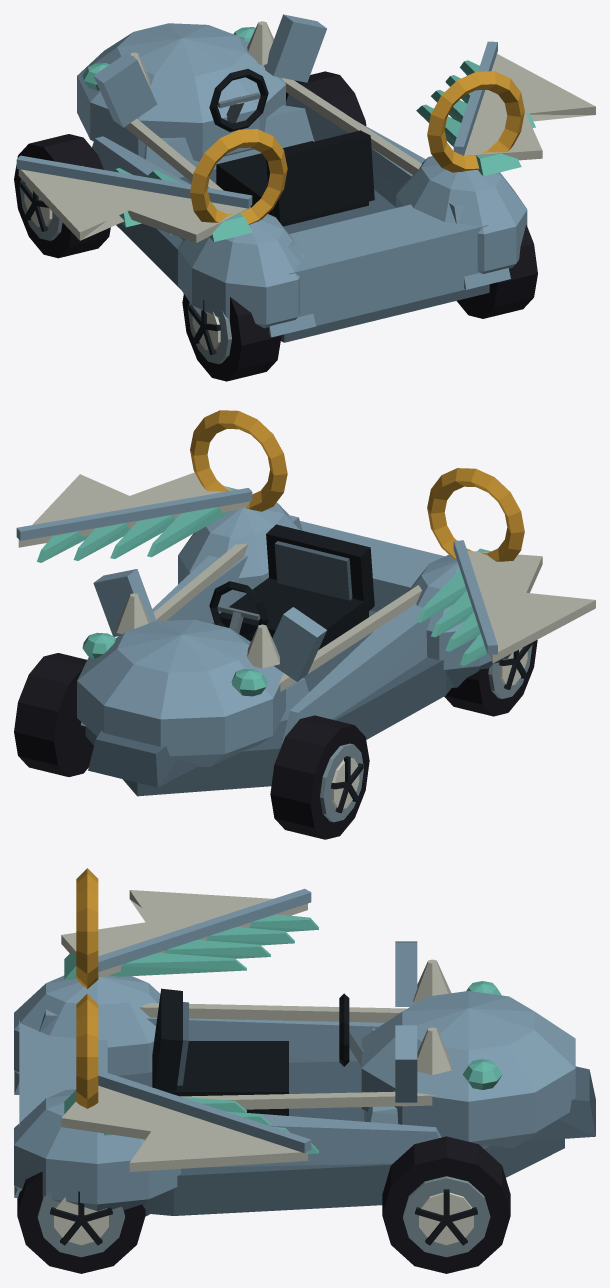
The model's file is kart.glb.
The picture shows the model from 3 angles, top to bottom: view 1: azimuth 30°, elevation 25°; view 2: azimuth 150°, elevation 25°; view 3: azimuth 270°, elevation 25°; orthographic projection. The views are drawn at different scales.
Parts seen in each view (by area): view 1: identity-beast-beast-sculpted-prow-and-haunches, identity-beast-motif-dragon-wings, identity-beast-driver-cockpit, identity-beast-motif-ring, wheel-rear-left, wheel-front-left, identity-beast-motif-wings-feather, wheel-rear-right, wheel-front-right; view 2: identity-beast-beast-sculpted-prow-and-haunches, identity-beast-motif-dragon-wings, identity-beast-driver-cockpit, wheel-front-left, identity-beast-motif-ring, identity-beast-motif-wings-feather, wheel-front-right, wheel-rear-left; view 3: identity-beast-beast-sculpted-prow-and-haunches, identity-beast-motif-dragon-wings, wheel-front-right, identity-beast-driver-cockpit, wheel-rear-right, identity-beast-motif-wings-feather, identity-beast-motif-ring.
Boxes of the visible parts, bbox=[...] form: identity-beast-beast-sculpted-prow-and-haunches: bbox=[77, 14, 527, 342]; identity-beast-motif-dragon-wings: bbox=[16, 41, 595, 242]; identity-beast-driver-cockpit: bbox=[209, 69, 374, 226]; identity-beast-motif-ring: bbox=[190, 71, 524, 224]; wheel-rear-left: bbox=[182, 294, 281, 381]; wheel-front-left: bbox=[14, 134, 110, 258]; identity-beast-motif-wings-feather: bbox=[82, 60, 535, 241]; wheel-rear-right: bbox=[457, 225, 537, 318]; wheel-front-right: bbox=[286, 71, 366, 125]; identity-beast-beast-sculpted-prow-and-haunches: bbox=[77, 502, 511, 796]; identity-beast-motif-dragon-wings: bbox=[16, 472, 595, 663]; identity-beast-driver-cockpit: bbox=[209, 524, 374, 649]; wheel-front-left: bbox=[270, 715, 369, 839]; identity-beast-motif-ring: bbox=[190, 410, 524, 561]; identity-beast-motif-wings-feather: bbox=[37, 486, 490, 665]; wheel-front-right: bbox=[14, 653, 93, 776]; wheel-rear-left: bbox=[444, 640, 537, 716]; identity-beast-beast-sculpted-prow-and-haunches: bbox=[14, 941, 595, 1216]; identity-beast-motif-dragon-wings: bbox=[61, 888, 311, 1171]; wheel-front-right: bbox=[382, 1136, 510, 1273]; identity-beast-driver-cockpit: bbox=[152, 988, 363, 1115]; wheel-rear-right: bbox=[17, 1171, 145, 1273]; identity-beast-motif-wings-feather: bbox=[64, 914, 318, 1154]; identity-beast-motif-ring: bbox=[76, 868, 98, 1108].
Bounding box in the file's own units: 3.22 × 1.42 × 2.9.
